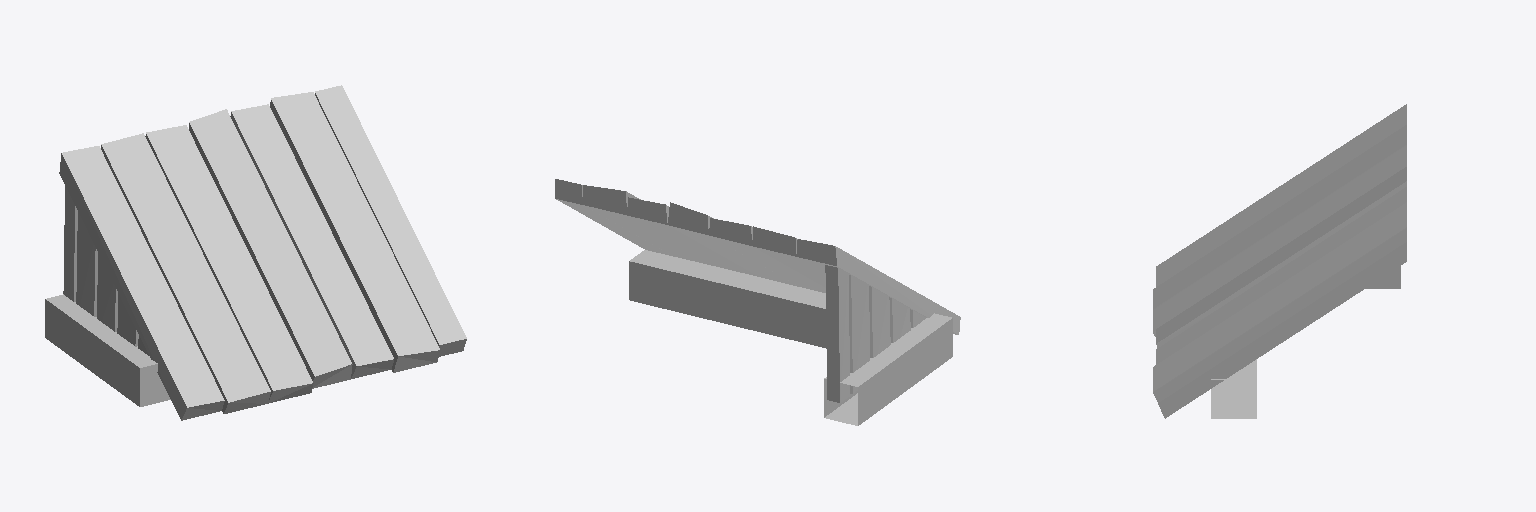
Rendered from Roof_Wooden_2x1_L.obj.
3 renders of one model, left to right at view 1: azimuth 30°, elevation 25°; view 2: azimuth 150°, elevation 25°; view 3: azimuth 270°, elevation 25°, orthographic.
Parts seen in each view (by area): view 1: Roof_Wooden_2x1_L; view 2: Roof_Wooden_2x1_L; view 3: Roof_Wooden_2x1_L.
Boxes of the visible parts, <box> form: Roof_Wooden_2x1_L: <box>45,85,466,420</box>; Roof_Wooden_2x1_L: <box>555,179,960,425</box>; Roof_Wooden_2x1_L: <box>1153,104,1406,418</box>.
Size of the model in its own units: 2.13 by 1.25 by 1.56.